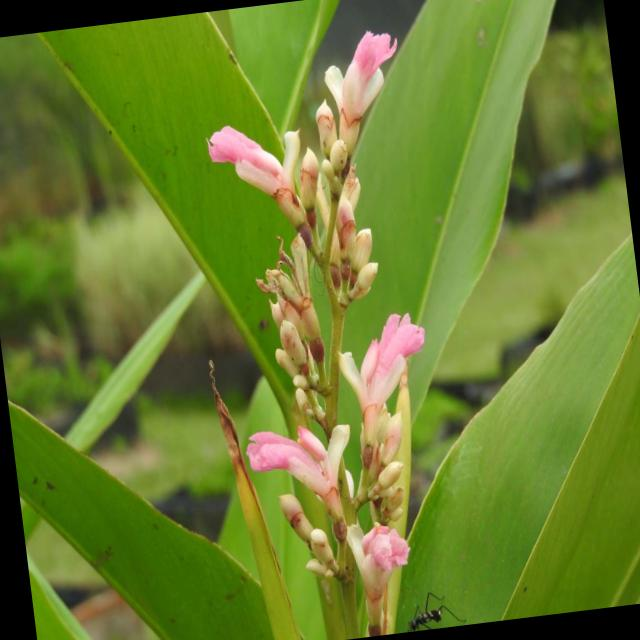Aquatic-Ginger: (196, 26, 465, 610)
